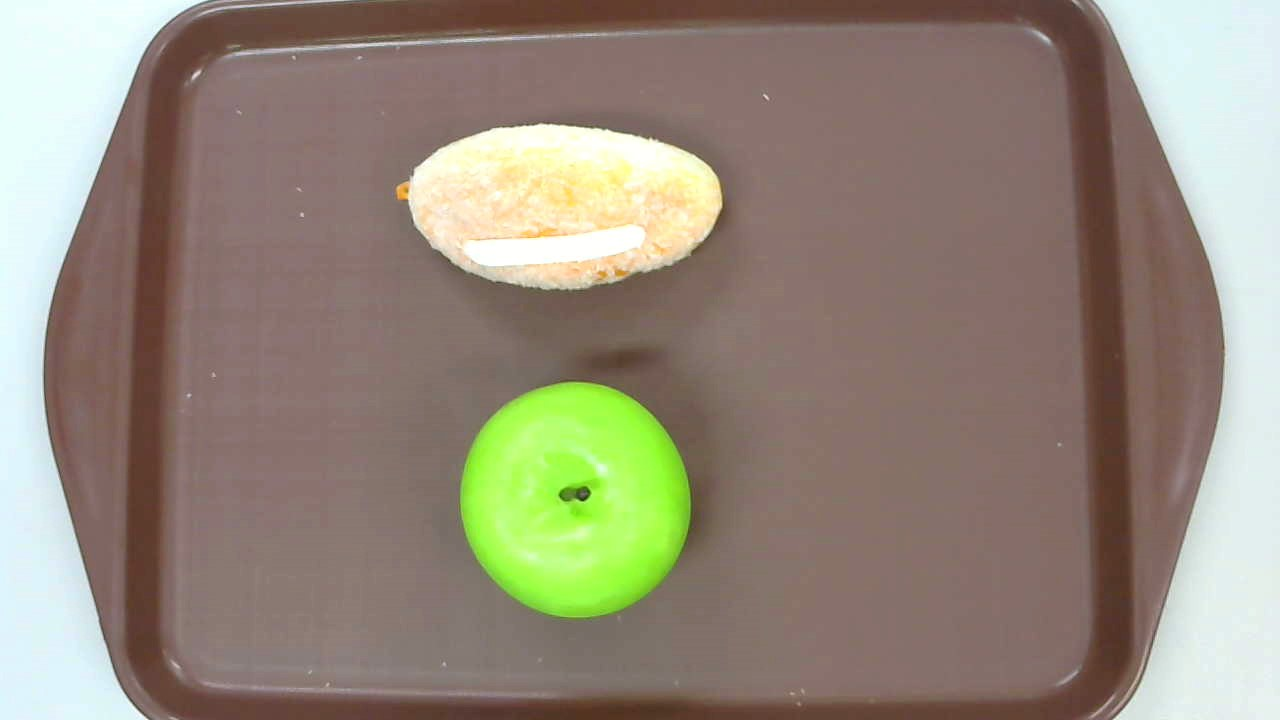coconut: (395, 123, 722, 291)
green apple: (460, 379, 691, 618)
